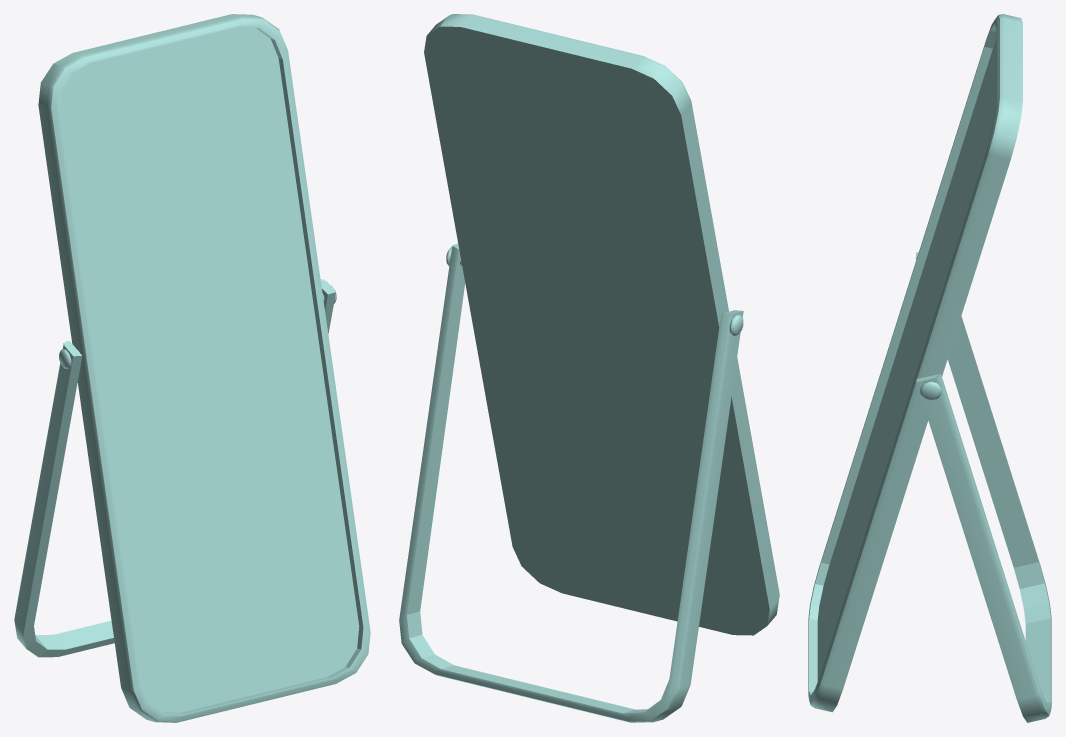
The model's file is Dressing_Mirror.fbx.
3 views of the same model, side by side, from view 1: azimuth 30°, elevation 25°; view 2: azimuth 150°, elevation 25°; view 3: azimuth 270°, elevation 25° (orthographic). The views are drawn at different scales.
Parts seen in each view (by area): view 1: pCube6; view 2: pCube6; view 3: pCube6.
Part boxes in pixels (x1=…): pCube6: x1=14, y1=14, x2=370, y2=722; pCube6: x1=399, y1=14, x2=779, y2=722; pCube6: x1=808, y1=14, x2=1051, y2=722.
Bounding box in the file's own units: 0.8066 × 1.73 × 0.6212.
